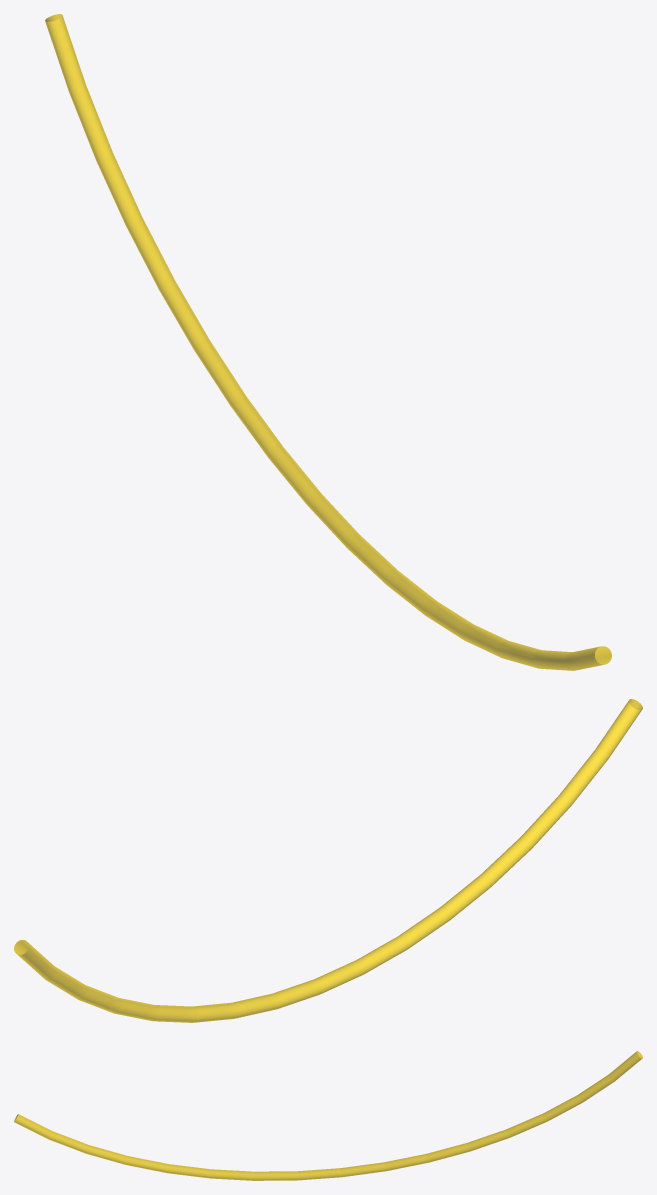
File: Event_17758602_track_13.fbx
The picture shows the model from 3 angles, top to bottom: view 1: azimuth 30°, elevation 25°; view 2: azimuth 150°, elevation 25°; view 3: azimuth 270°, elevation 25°; orthographic projection. The views are drawn at different scales.
Visible parts, largest first — view 1: Model; view 2: Model; view 3: Model.
Part boxes in pixels (<box>): Model: <box>45,14,611,670</box>; Model: <box>14,699,642,1022</box>; Model: <box>14,1051,642,1180</box>.
Size of the model in its own units: 0.2232 by 0.6636 by 2.7.
